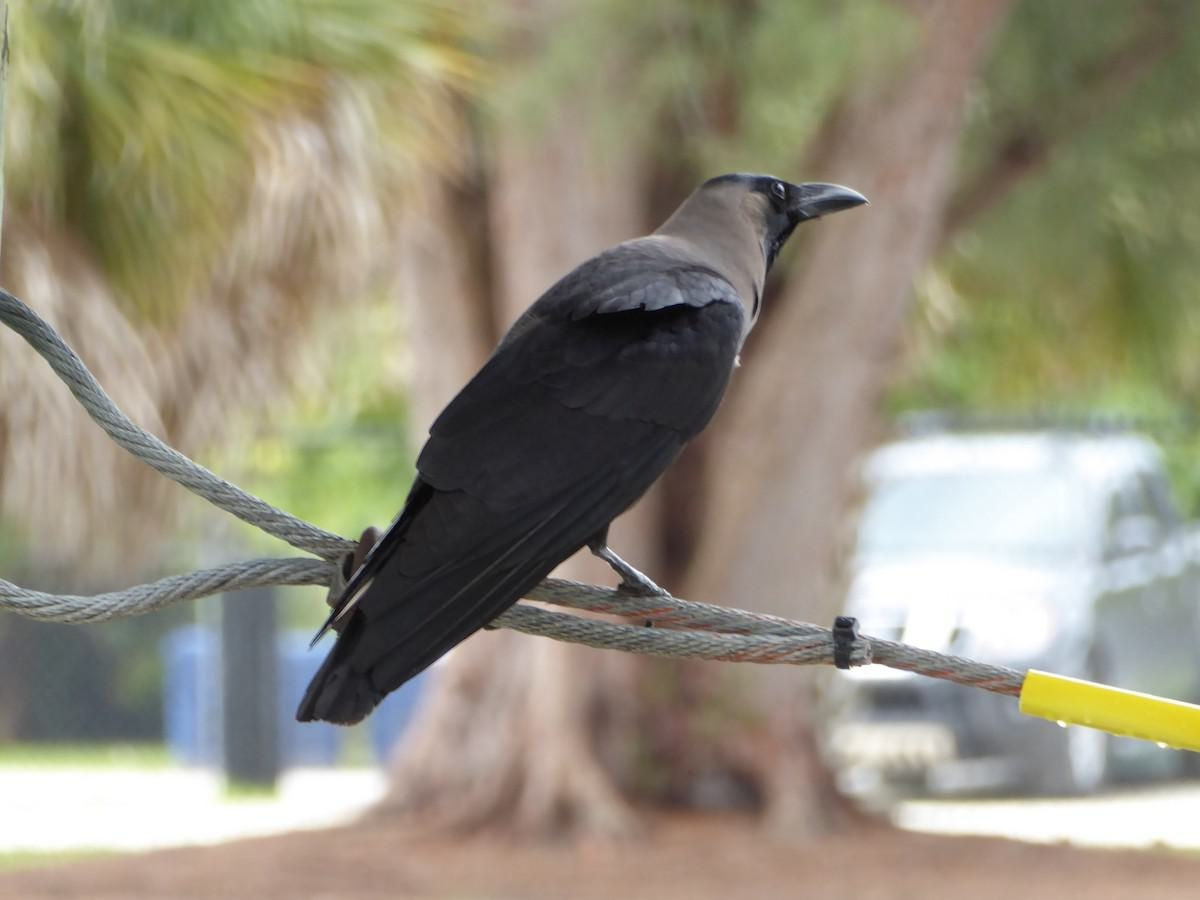crow: (252, 158, 883, 735)
